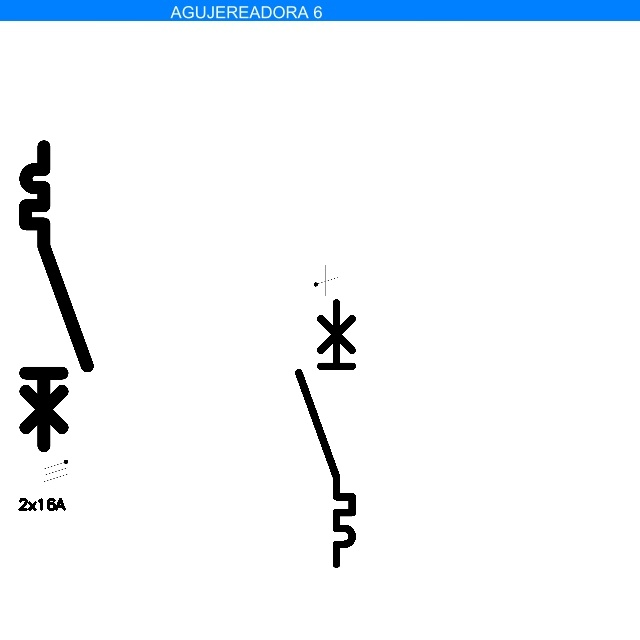interruptor_termomagnetico: (18, 139, 95, 453), (292, 296, 359, 571)
